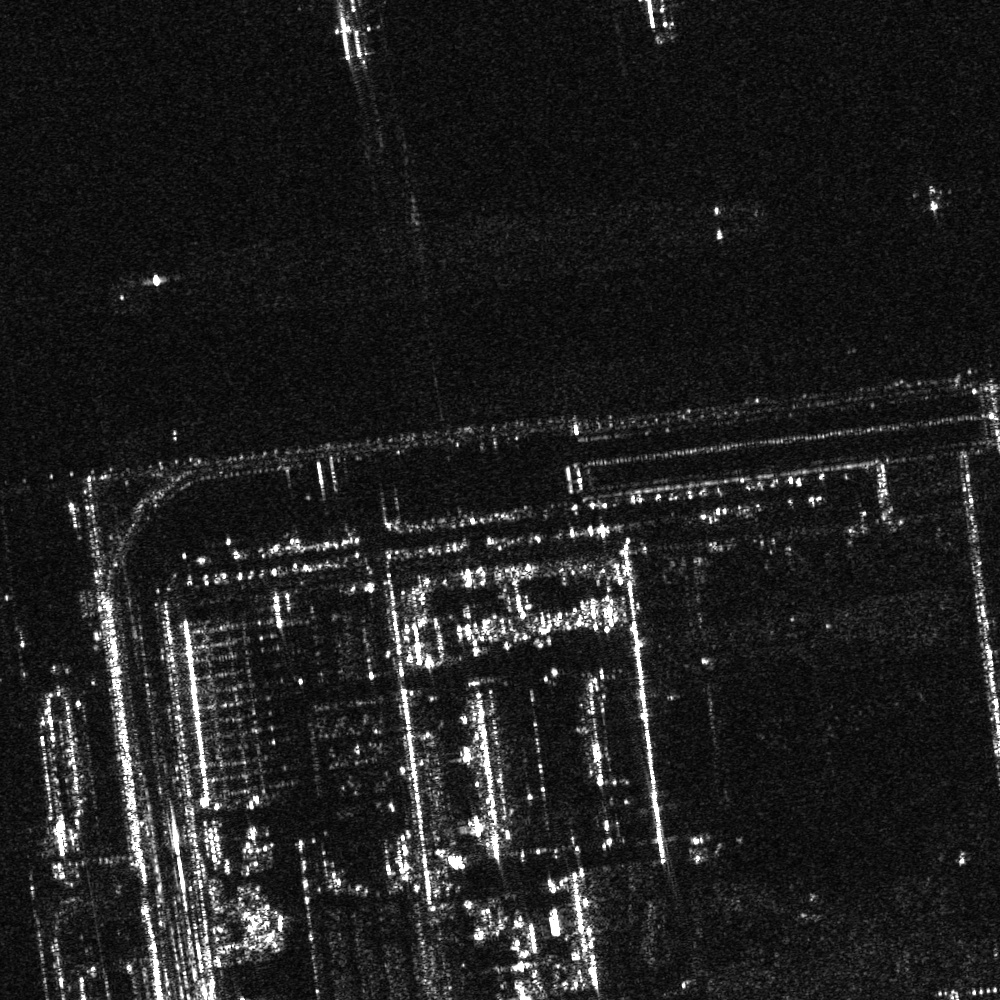A330: (910, 179, 953, 215)
